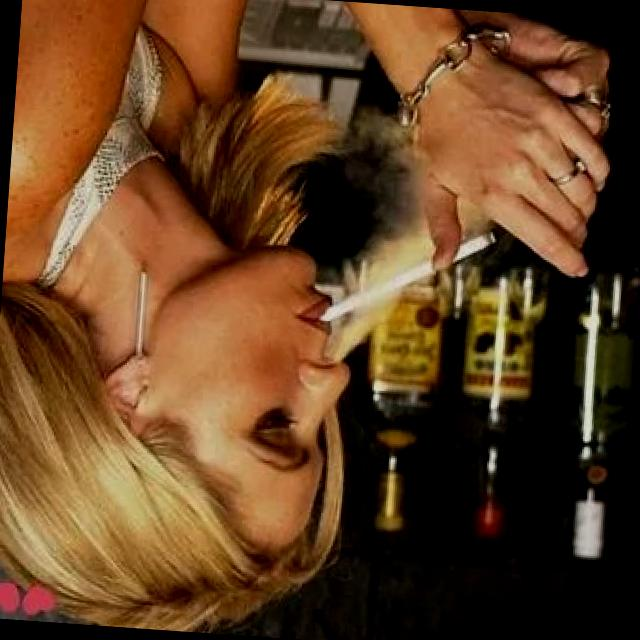smoke: (312, 214, 501, 336)
